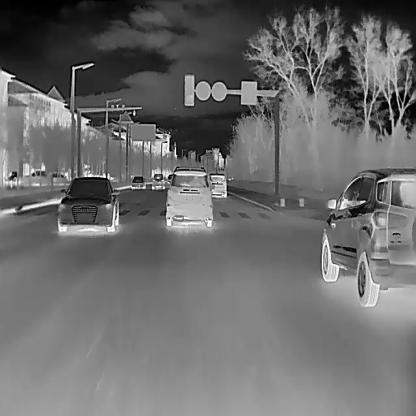car: (321, 167, 415, 307), (57, 177, 119, 232), (165, 165, 215, 225), (208, 172, 227, 197), (130, 175, 145, 189), (151, 173, 164, 189)
